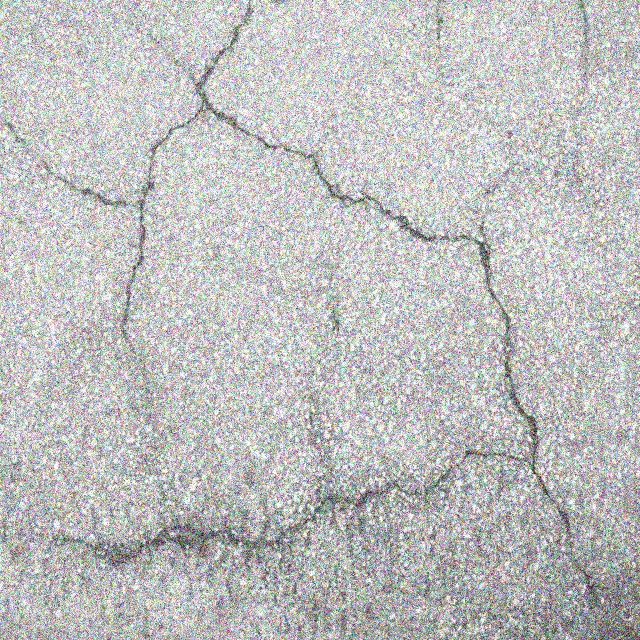SurfaceCrack: (1, 0, 640, 636)
